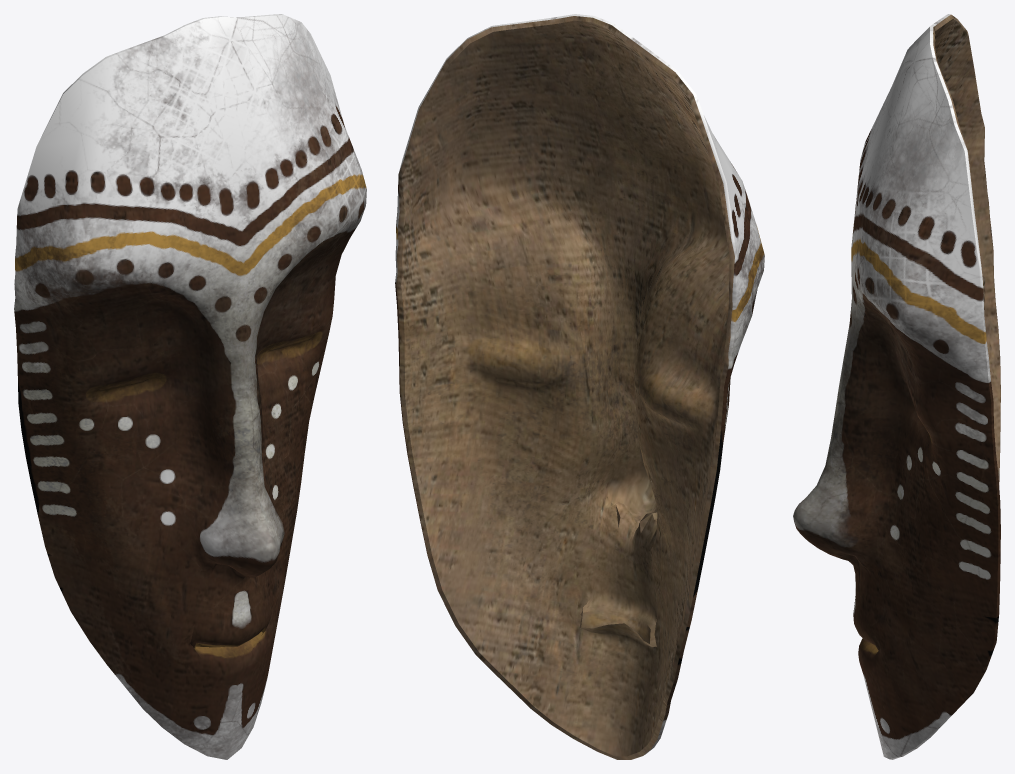
Rendered from long-mask.fbx.
The picture shows the model from 3 angles, left to right: view 1: azimuth 30°, elevation 25°; view 2: azimuth 150°, elevation 25°; view 3: azimuth 270°, elevation 25°; orthographic projection. The views are drawn at different scales.
Visible parts, largest first — view 1: Object_2; view 2: Object_2; view 3: Object_2.
Part boxes in pixels (box(x1,y1,x2,y2)): Object_2: box(14, 14, 366, 759); Object_2: box(395, 14, 764, 759); Object_2: box(793, 14, 1000, 759).
Bounding box in the file's own units: 485 × 1032 × 268.
Materials: 1 (1 with a texture image).
